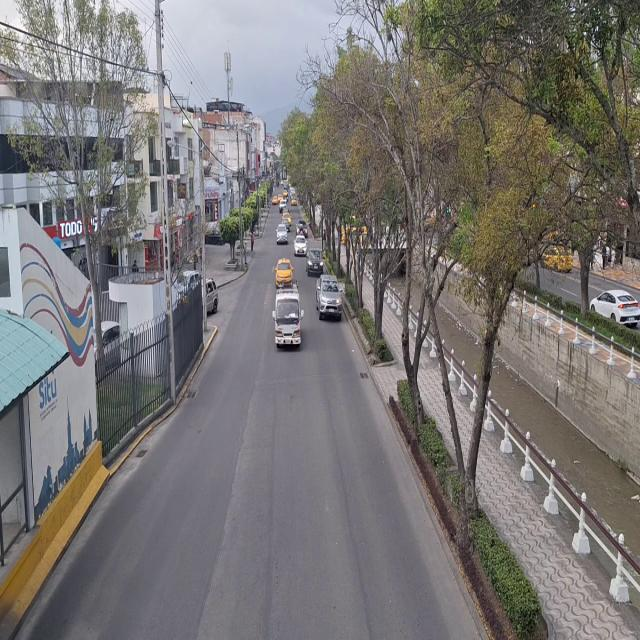CMT: (317, 276, 340, 318)
SUV: (308, 248, 322, 274), (294, 236, 306, 257), (278, 224, 288, 243)
TRUCK: (272, 284, 302, 350)
